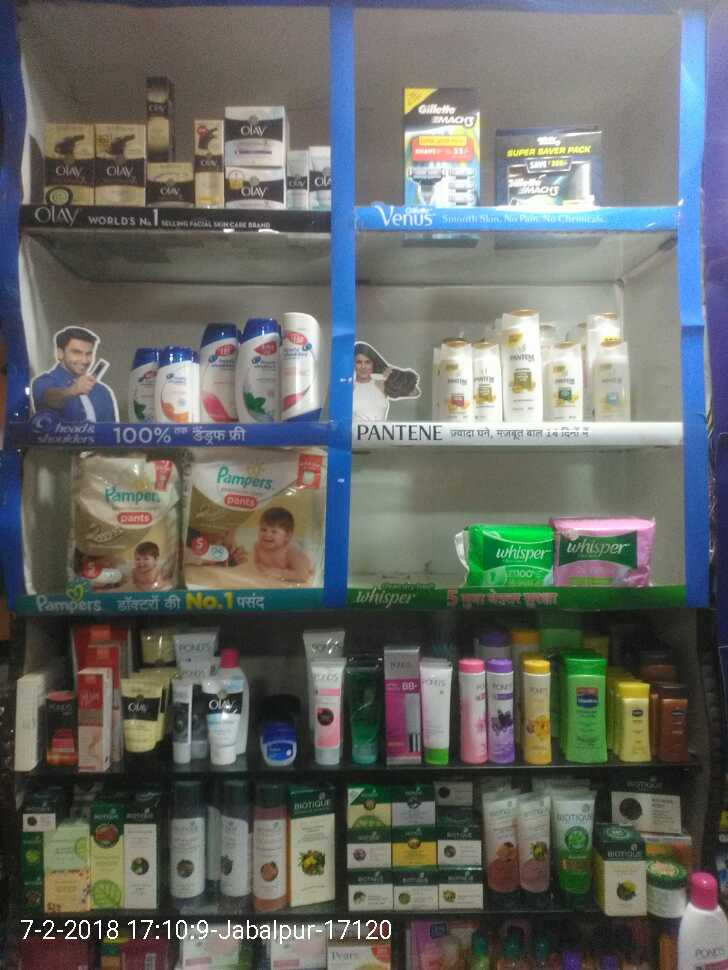gillete: (404, 86, 481, 205), (495, 129, 601, 207)
